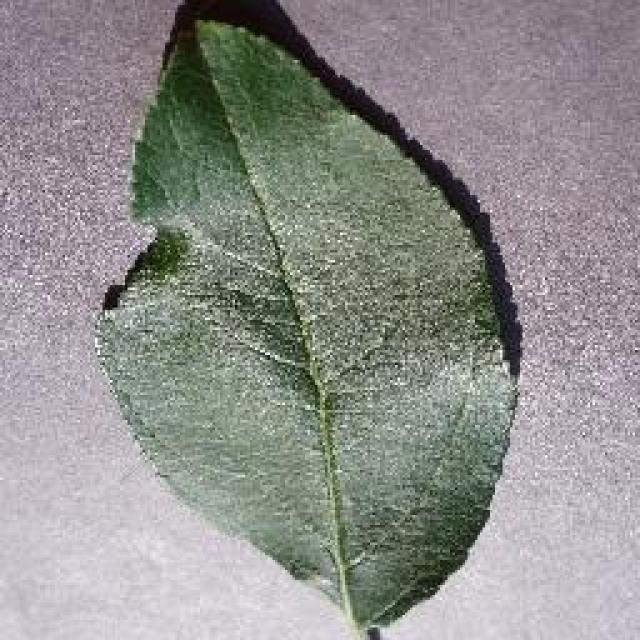apple healthy: (90, 0, 522, 638)
